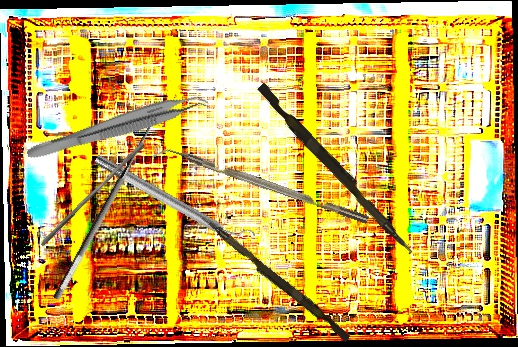Chopper: (152, 139, 369, 235)
Fixation Ring: (89, 144, 257, 259)
Hook Surgical: (38, 103, 165, 303)
Pusher: (252, 82, 421, 256), (196, 214, 354, 343), (39, 138, 146, 251)
Tissue Forceps: (25, 86, 211, 171)
